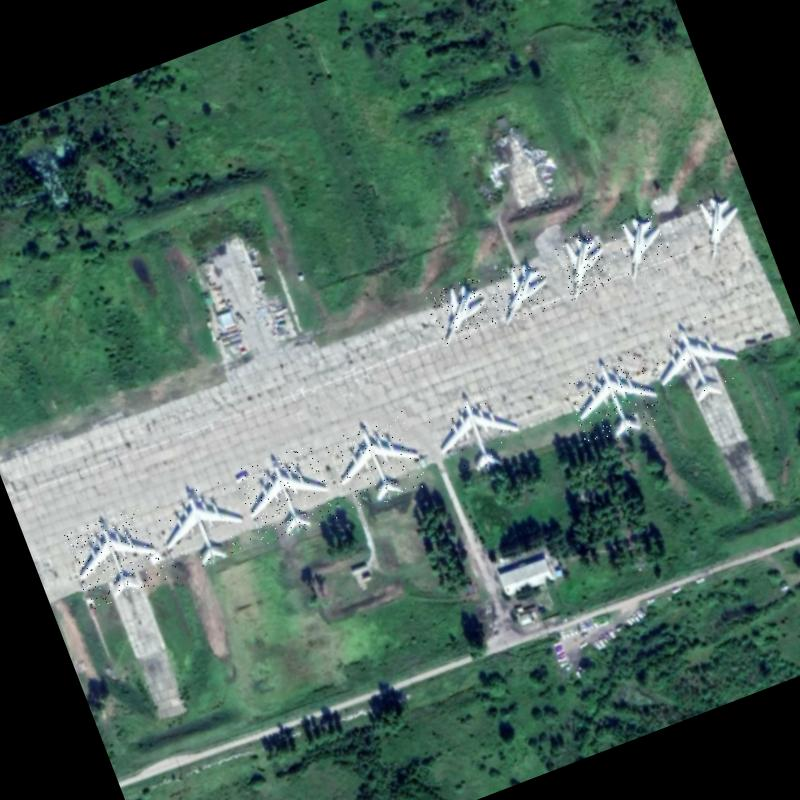A12: (423, 274, 497, 347), (484, 255, 557, 327), (606, 206, 674, 282), (550, 226, 618, 301), (686, 186, 752, 260)
A17: (321, 410, 430, 516), (232, 441, 340, 547), (61, 504, 168, 610), (642, 309, 750, 414), (148, 473, 255, 578), (560, 346, 667, 451), (423, 380, 530, 483)
